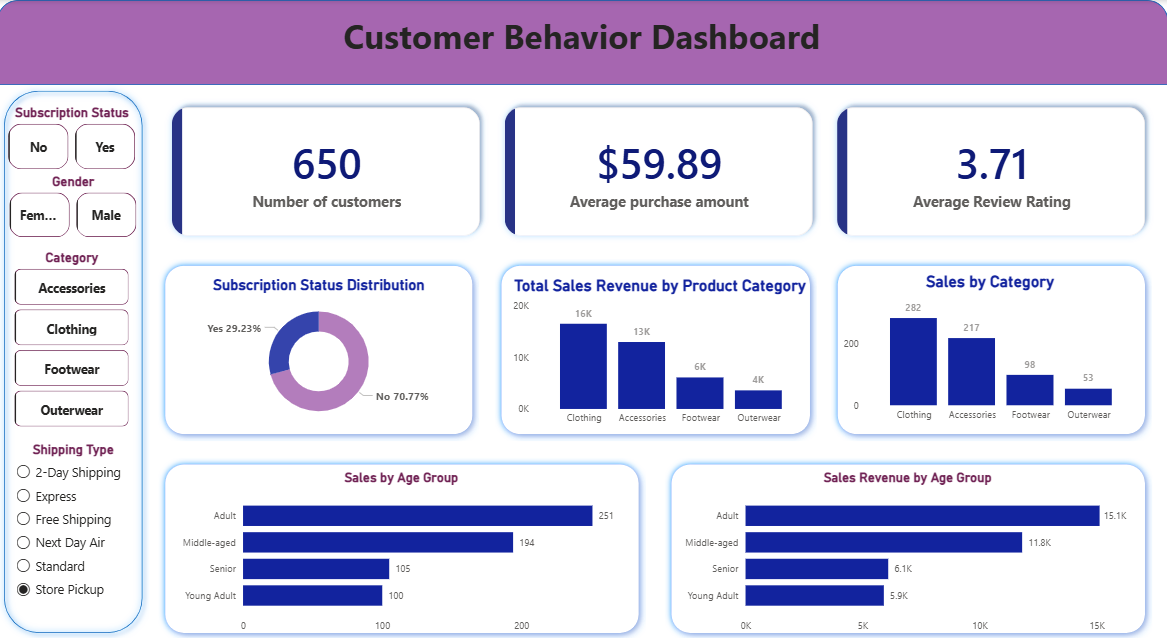

The page's visual inventory and layout, read from the dashboard file:
{"tool":"powerbi","page":{"name":"Page 1","canvas":[1500,820],"ordinal":0},"visuals":[{"type":"cardVisual","fields":{"Data":["public customer.Number of customers","public customer.Average purchase amount","public customer.Average Review Rating"]},"box":[195.3,108.9,1305,222.6],"z":0},{"type":"shape","box":[0,0,1500.3,108.9],"z":1000},{"type":"textbox","box":[80.7,11.2,1338.6,123.3],"z":2000},{"type":"shape","box":[206.6,331.4,411.5,233.8],"z":3000},{"type":"donutChart","title":"Subscription Status Distribution","fields":{"Category":["public customer.subscription_status"],"Y":["CountNonNull(public customer.customer_id)"]},"box":[235.4,353.9,353.9,196.9],"z":4000},{"type":"shape","box":[1068,331.4,411.5,233.8],"z":5000},{"type":"shape","box":[636.5,331.4,413.1,233.8],"z":6000},{"type":"columnChart","title":"Total Sales Revenue by Product Category","fields":{"Y":["Sum(public customer.purchase_amount)"],"Category":["public customer.category"]},"box":[656.5,353.9,385.9,200.2],"z":7000},{"type":"columnChart","title":"Sales by Category","fields":{"Y":["CountNonNull(public customer.customer_id)"],"Category":["public customer.category"]},"box":[1079.2,349.1,385.9,200.2],"z":8000},{"type":"shape","box":[0,107.3,195.3,712.5],"z":9000},{"type":"advancedSlicerVisual","title":"Subscription Status","fields":{"Values":["public customer.subscription_status"]},"box":[9.6,134.5,172.9,88.1],"z":10000},{"type":"advancedSlicerVisual","title":"Gender","fields":{"Values":["public customer.gender"]},"box":[11.2,222.6,172.9,86.5],"z":11000},{"type":"advancedSlicerVisual","title":"Category","fields":{"Values":["public customer.category"]},"box":[17.6,320.2,156.9,233.8],"z":12000},{"type":"listSlicer","title":"Shipping Type","fields":{"Values":["public customer.shipping_type"]},"box":[19.2,565.2,156.9,233.8],"z":13000},{"type":"shape","box":[206.6,586,624.5,233.8],"z":16000},{"type":"clusteredBarChart","title":"Sales by Age Group","fields":{"Y":["CountNonNull(public customer.customer_id)"],"Category":["public customer.age_group"]},"box":[227.4,602.1,581.2,217.8],"z":17000},{"type":"shape","box":[855,586,624.5,233.8],"z":17001},{"type":"clusteredBarChart","title":"Sales Revenue by Age Group","fields":{"Y":["Sum(public customer.purchase_amount)"],"Category":["public customer.age_group"]},"box":[871.1,602.1,590.8,217.8],"z":17002}]}

Visuals, with their boxes in screenshot pixels (x1, y1, x2, y2), scaled from the page's 1500x820 canvas onto the 1167x638 screenshot:
cardVisual - public customer.Number of customers x public customer.Average purchase amount: locate(152, 85, 1166, 258)
shape: locate(0, 0, 1166, 85)
textbox: locate(63, 9, 1104, 105)
shape: locate(161, 258, 481, 440)
"Subscription Status Distribution" donutChart: locate(183, 275, 458, 429)
shape: locate(831, 258, 1151, 440)
shape: locate(495, 258, 817, 440)
"Total Sales Revenue by Product Category" columnChart: locate(511, 275, 811, 431)
"Sales by Category" columnChart: locate(840, 272, 1140, 427)
shape: locate(0, 83, 152, 637)
"Subscription Status" advancedSlicerVisual: locate(7, 105, 142, 173)
"Gender" advancedSlicerVisual: locate(9, 173, 143, 240)
"Category" advancedSlicerVisual: locate(14, 249, 136, 431)
"Shipping Type" listSlicer: locate(15, 440, 137, 622)
shape: locate(161, 456, 647, 637)
"Sales by Age Group" clusteredBarChart: locate(177, 468, 629, 637)
shape: locate(665, 456, 1151, 637)
"Sales Revenue by Age Group" clusteredBarChart: locate(678, 468, 1137, 637)
